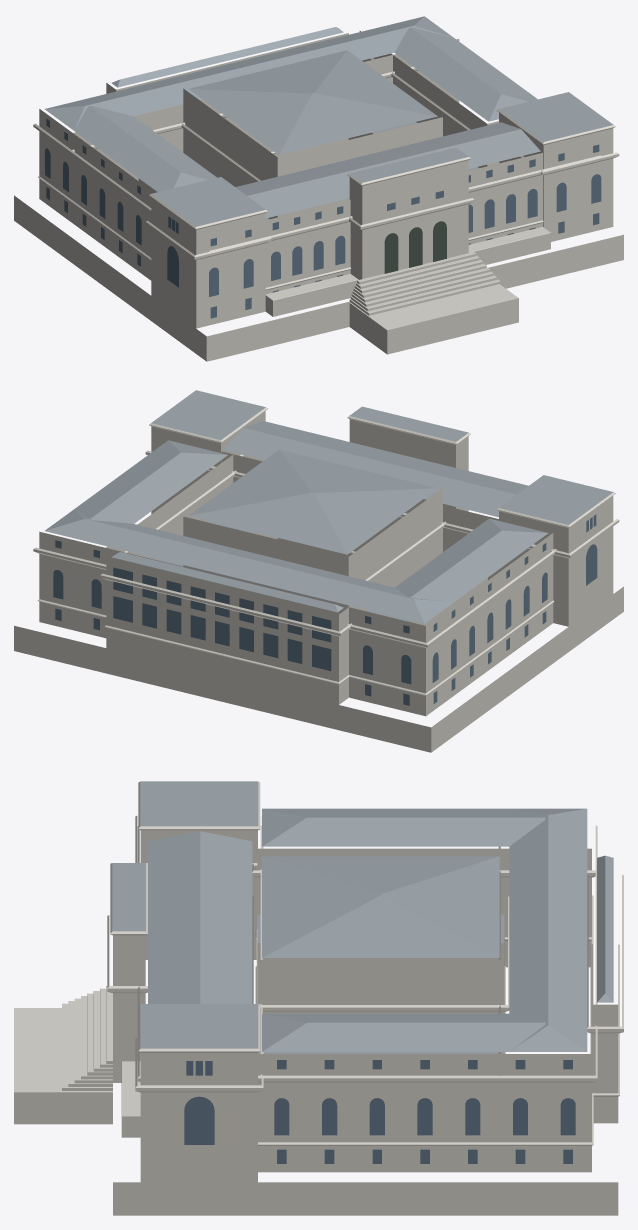
The model's file is stl-central-library.glb.
3 views of the same model, one above another, from view 1: azimuth 30°, elevation 25°; view 2: azimuth 150°, elevation 25°; view 3: azimuth 270°, elevation 25° (orthographic). The views are drawn at different scales.
Visible parts, largest first — view 1: St. Louis Central Public Library; view 2: St. Louis Central Public Library; view 3: St. Louis Central Public Library.
Boxes of the visible parts, x1,y1,x2,y2 form: St. Louis Central Public Library: (14,16,623,361); St. Louis Central Public Library: (14,390,623,752); St. Louis Central Public Library: (14,781,623,1215).
Size of the model in its own units: 80.6 by 25.9 by 76.5.
